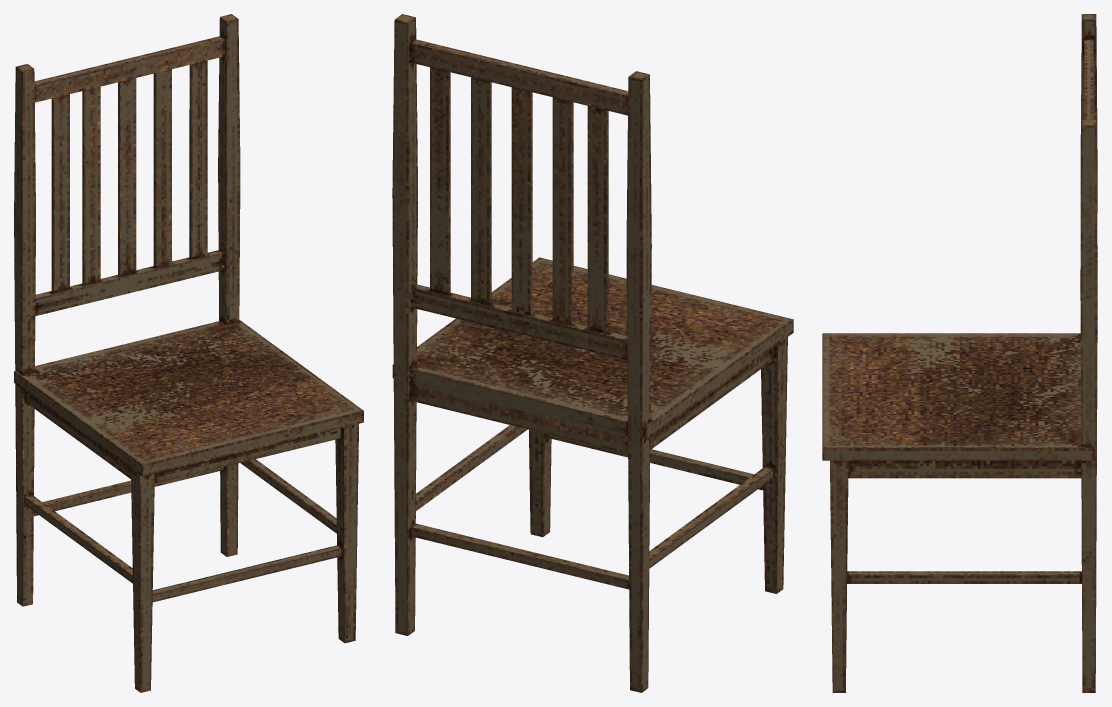
The model's file is Chair01.glb.
The picture shows the model from 3 angles, left to right: view 1: azimuth 30°, elevation 25°; view 2: azimuth 150°, elevation 25°; view 3: azimuth 270°, elevation 25°; orthographic projection. The views are drawn at different scales.
Visible parts, largest first — view 1: Chair001; view 2: Chair001; view 3: Chair001.
Part boxes in pixels (box(x1,y1,x2,y2)): Chair001: box(14, 14, 363, 692); Chair001: box(392, 14, 793, 692); Chair001: box(822, 14, 1097, 692).
Size of the model in its own units: 0.4346 by 1 by 0.4412.
Materials: 1 (1 with a texture image).
